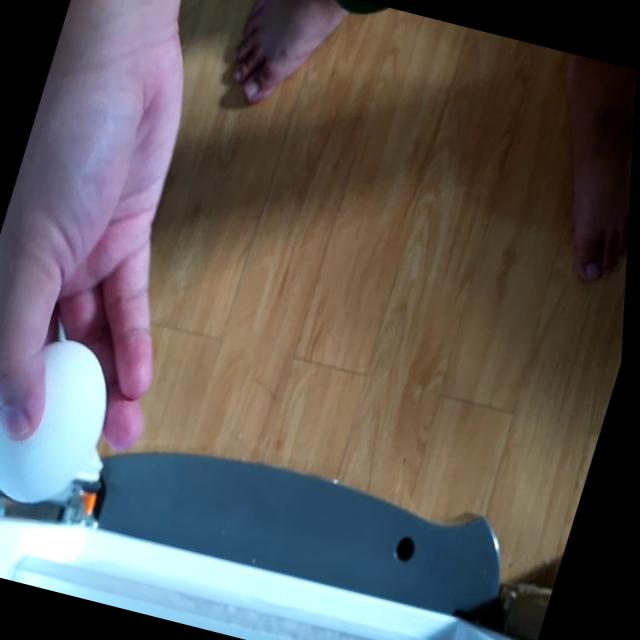egg: (0, 321, 131, 514)
